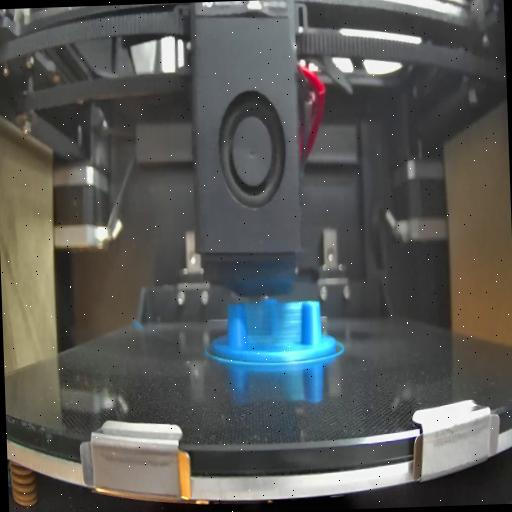stringing: (246, 301, 304, 348)
